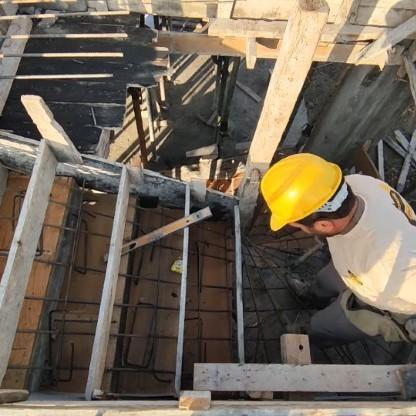helmet: (249, 157, 369, 250)
